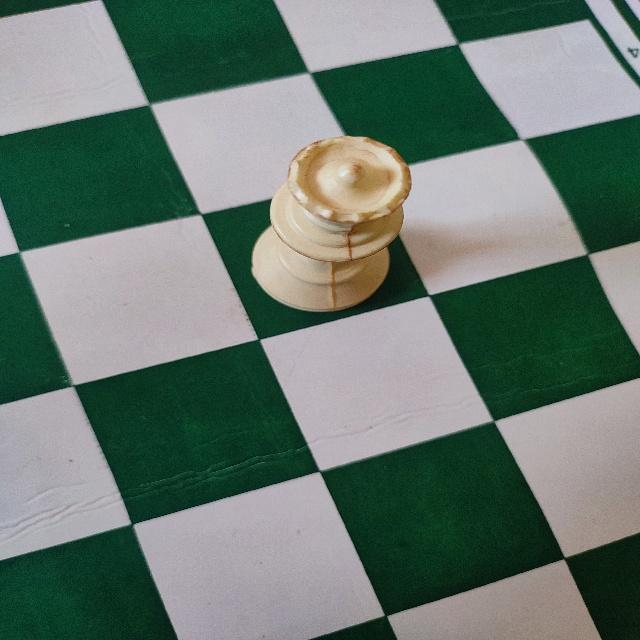Queen: (242, 131, 415, 317)
